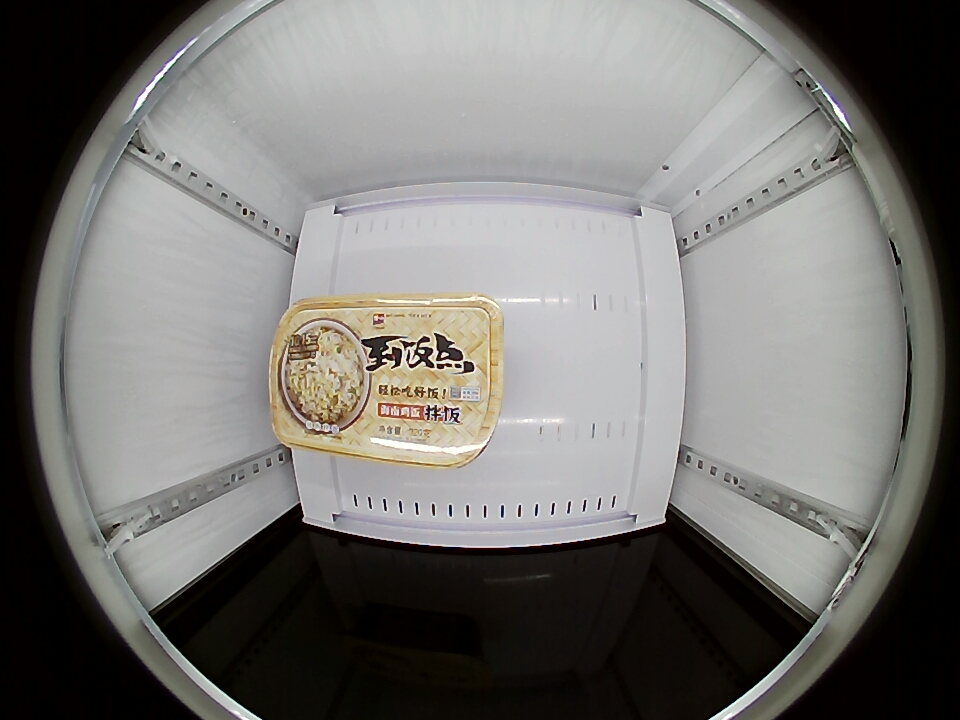daofandian1: (268, 295, 505, 467)
